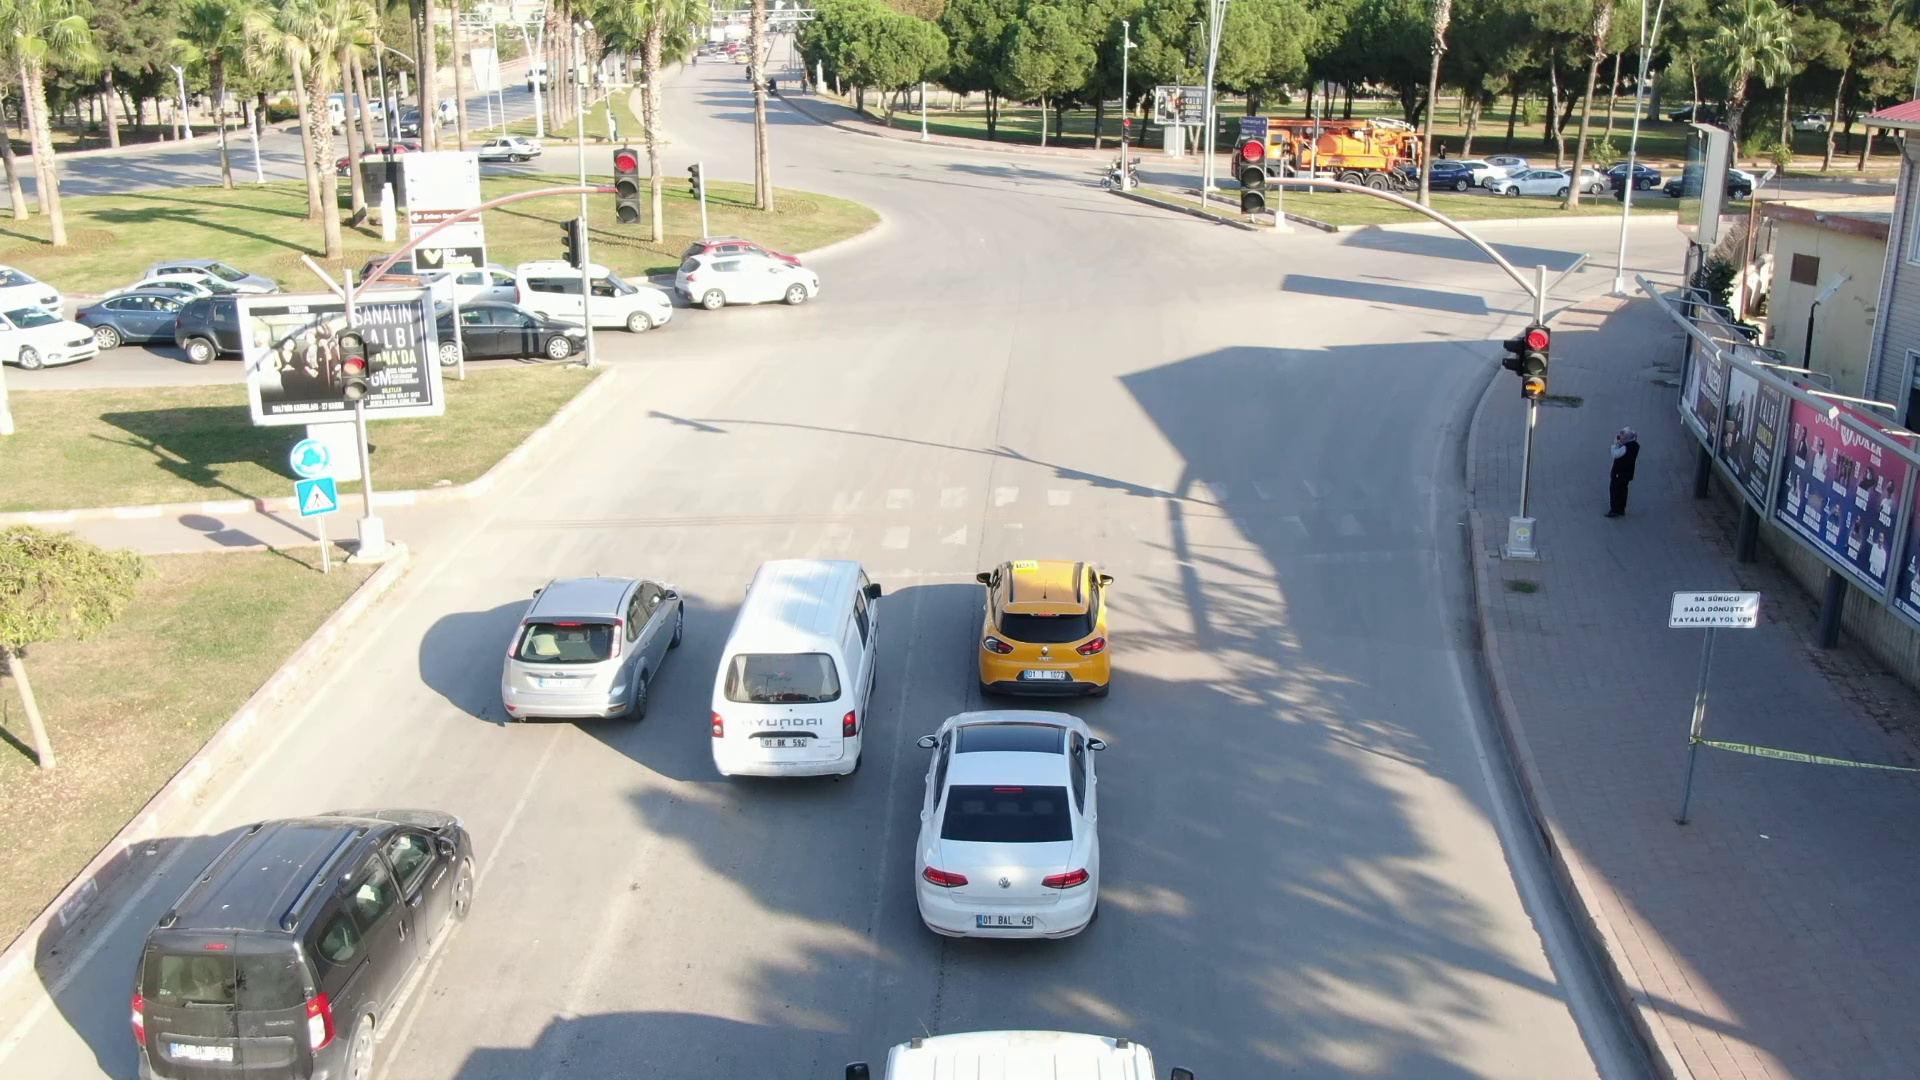car: (134, 806, 492, 1080), (908, 708, 1112, 955), (702, 549, 892, 780), (500, 578, 696, 729), (963, 547, 1121, 704), (519, 261, 680, 333), (433, 298, 596, 361), (672, 251, 825, 312)
person: (1604, 421, 1639, 525)
